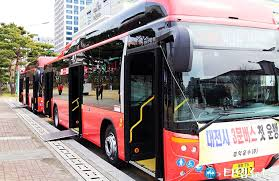entrance: (124, 49, 163, 179)
